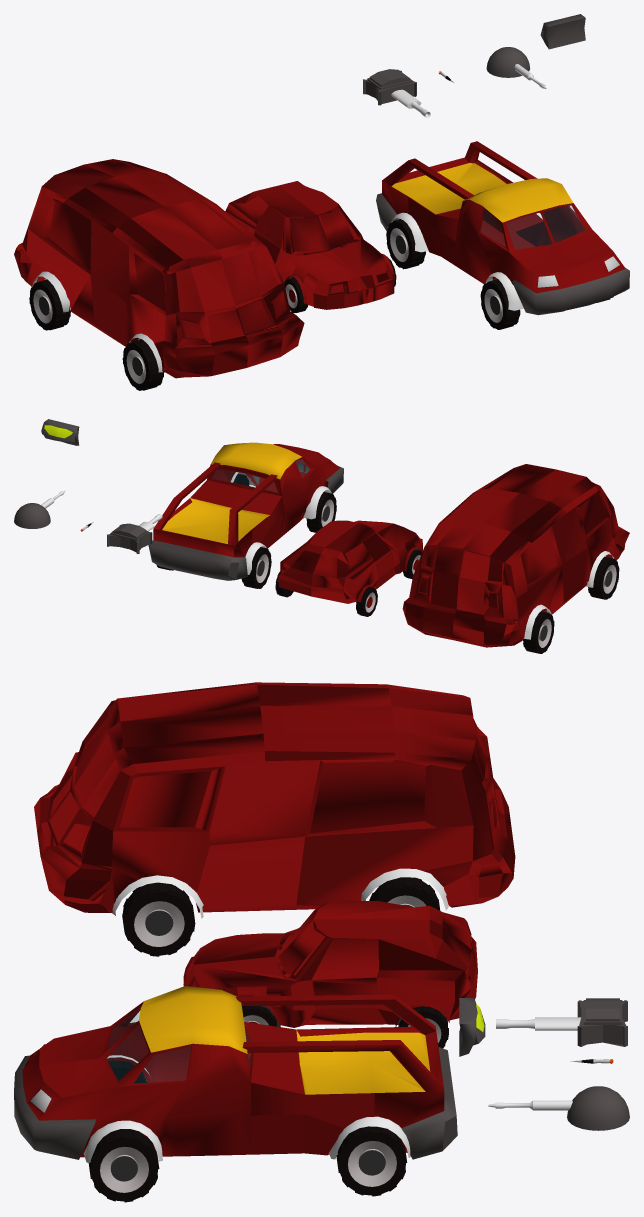
File: car buster 3.fbx
3 views of the same model, one above another, from view 1: azimuth 30°, elevation 25°; view 2: azimuth 150°, elevation 25°; view 3: azimuth 270°, elevation 25° (orthographic). The views are drawn at different scales.
Visible parts, largest first — view 1: Объект_Полигон_3, Объект_Куб_3, Объект_Полигон, Объект_Цилиндр_10, Объект_Цилиндр_2_4, Объект_Цилиндр_1_4, Ракетница, Объект_Цилиндр_3_4, Объект_Куб, Пулимет, Объект_Цилиндр_4; view 2: Объект_Полигон_3, Объект_Куб_3, Объект_Полигон, Ракетница, Объект_Цилиндр_10, Объект_Цилиндр_1_4, Объект_Цилиндр_2_4, Объект_Цилиндр_3_4, Пулимет, Объект_Куб, Объект_Цилиндр_3, Объект_Цилиндр_9; view 3: Объект_Полигон_3, Объект_Куб_3, Объект_Полигон, Объект_Цилиндр_10, Объект_Цилиндр_2_4, Объект_Цилиндр_1_4, Ракетница, Пулимет, Объект_Цилиндр_3_4, Объект_Куб, Объект_Цилиндр_9, Объект_Цилиндр (+3 smaller).
Part boxes in pixels (x1,y1,x2,y2): Объект_Полигон_3: [14, 159, 304, 378]; Объект_Куб_3: [376, 141, 629, 315]; Объект_Полигон: [225, 181, 394, 309]; Объект_Цилиндр_10: [480, 279, 613, 329]; Объект_Цилиндр_2_4: [122, 340, 160, 390]; Объект_Цилиндр_1_4: [386, 219, 425, 269]; Ракетница: [363, 69, 416, 105]; Объект_Цилиндр_3_4: [29, 280, 67, 330]; Объект_Куб: [540, 14, 585, 49]; Пулимет: [486, 47, 530, 77]; Объект_Цилиндр_4: [284, 256, 396, 313]; Объект_Полигон_3: [402, 464, 629, 647]; Объект_Куб_3: [148, 442, 343, 580]; Объект_Полигон: [278, 520, 422, 603]; Ракетница: [107, 523, 152, 553]; Объект_Цилиндр_10: [233, 473, 336, 532]; Объект_Цилиндр_1_4: [156, 547, 271, 588]; Объект_Цилиндр_2_4: [590, 556, 619, 599]; Объект_Цилиндр_3_4: [525, 611, 554, 653]; Пулимет: [14, 503, 50, 528]; Объект_Куб: [41, 419, 79, 445]; Объект_Цилиндр_3: [275, 571, 377, 616]; Объект_Цилиндр_9: [230, 472, 331, 519]; Объект_Полигон_3: [34, 682, 515, 912]; Объект_Куб_3: [14, 986, 457, 1159]; Объект_Полигон: [183, 901, 477, 1027]; Объект_Цилиндр_10: [88, 1060, 159, 1202]; Объект_Цилиндр_2_4: [122, 883, 195, 956]; Объект_Цилиндр_1_4: [336, 1126, 407, 1196]; Ракетница: [577, 998, 627, 1046]; Пулимет: [567, 1086, 629, 1130]; Объект_Цилиндр_3_4: [373, 877, 439, 909]; Объект_Куб: [459, 998, 485, 1056]; Объект_Цилиндр_9: [83, 1055, 162, 1162]; Объект_Цилиндр: [496, 1017, 581, 1030].
Bounding box in the file's own units: 1314 × 377 × 851.
